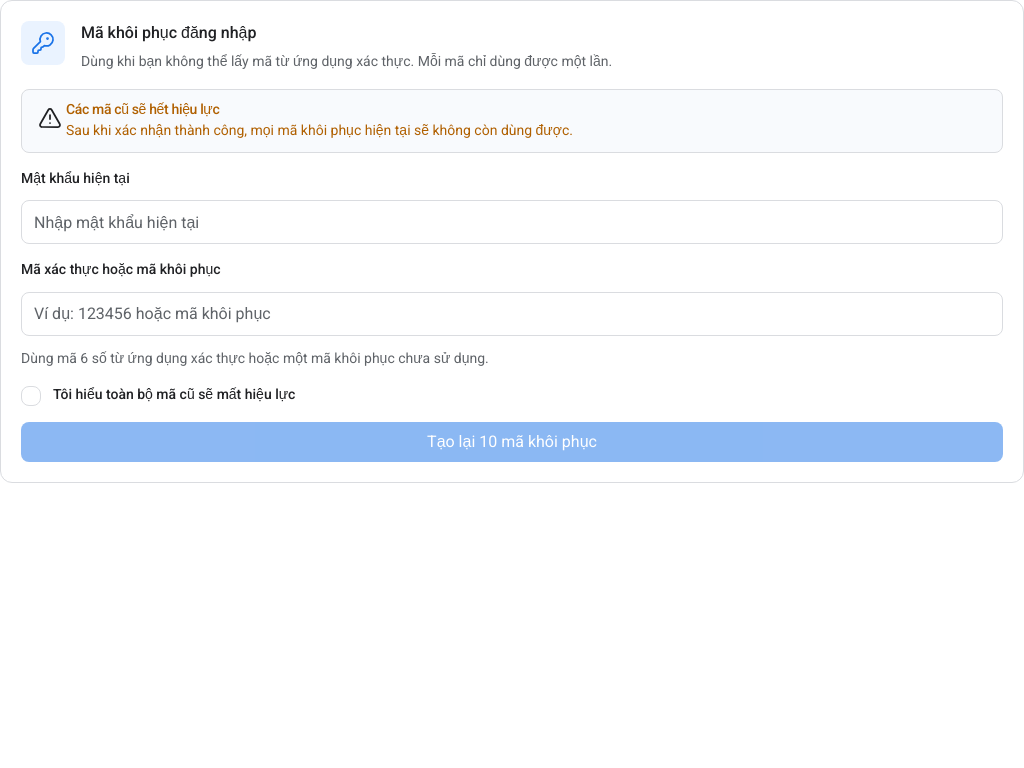
self-service recovery-code regeneration › requires explicit confirmation, submits once, and clears credentials before showing exactly ten one-time codes
Type "Current-password-2026!" into the password field labelled "Mật khẩu hiện tại" at coordinates (512, 222), box [21,200,1003,244]
Type "123456" into the field labelled "Mã xác thực hoặc mã khôi phục" at coordinates (512, 314), box [21,292,1003,336]
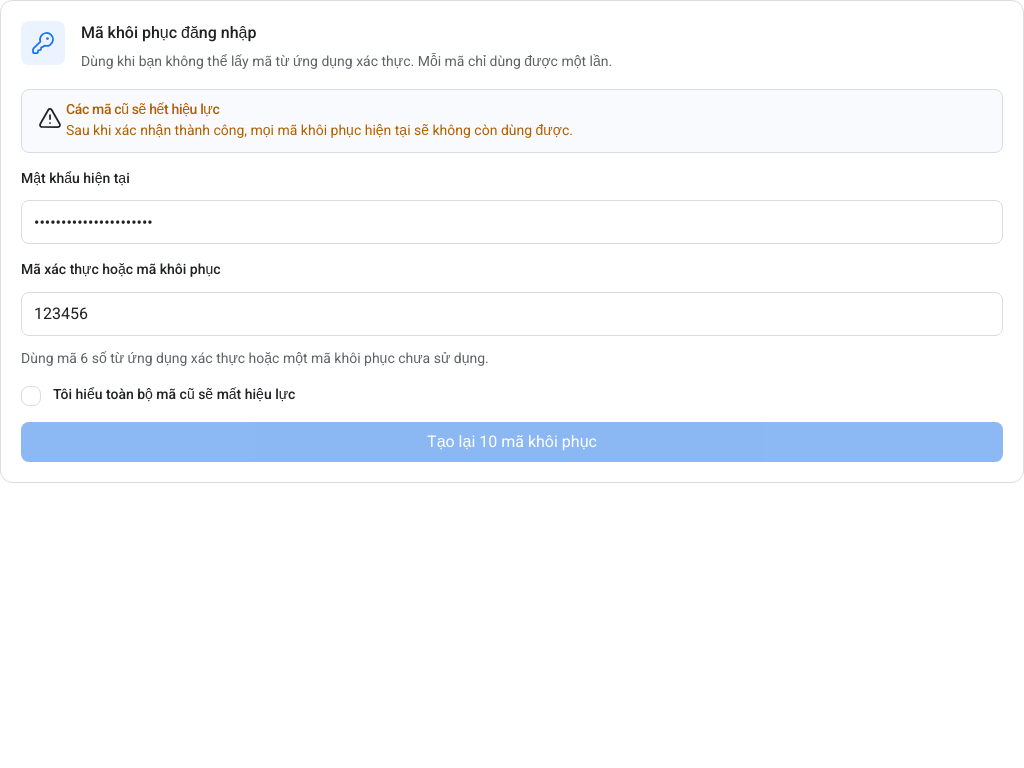
Click the checkbox named "toàn bộ mã cũ sẽ mất hiệu lực" at coordinates (31, 396), box [21,386,41,406]
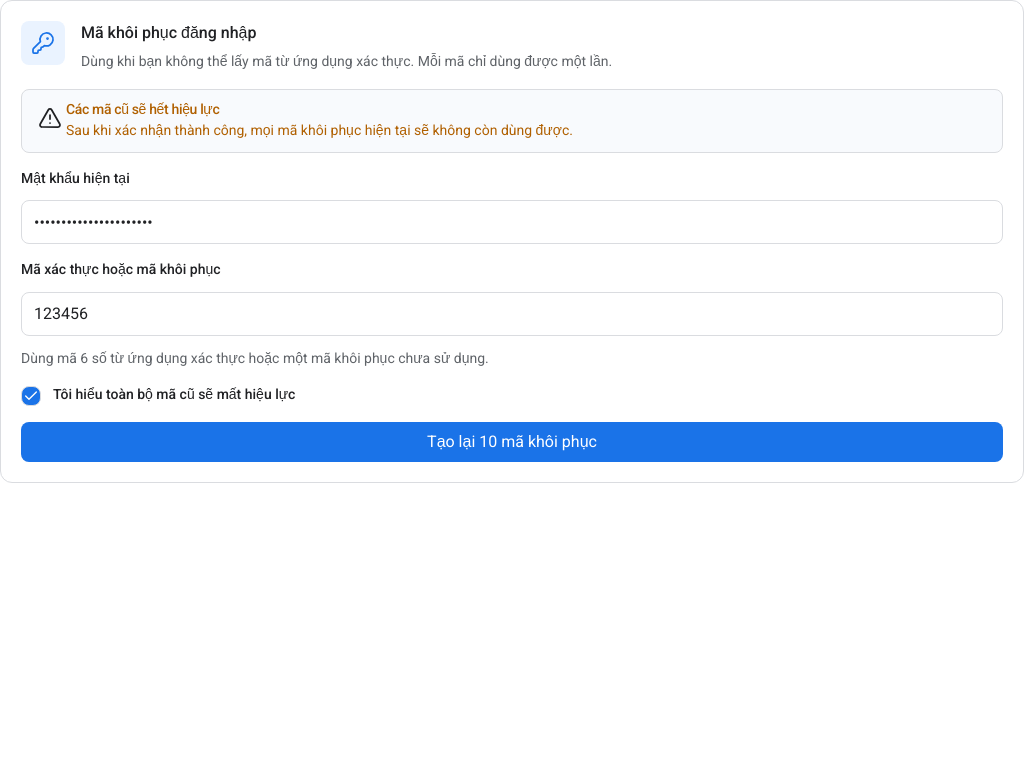
Click the button "Tạo lại 10 mã khôi phục" at coordinates (512, 442), box [21,422,1003,462]
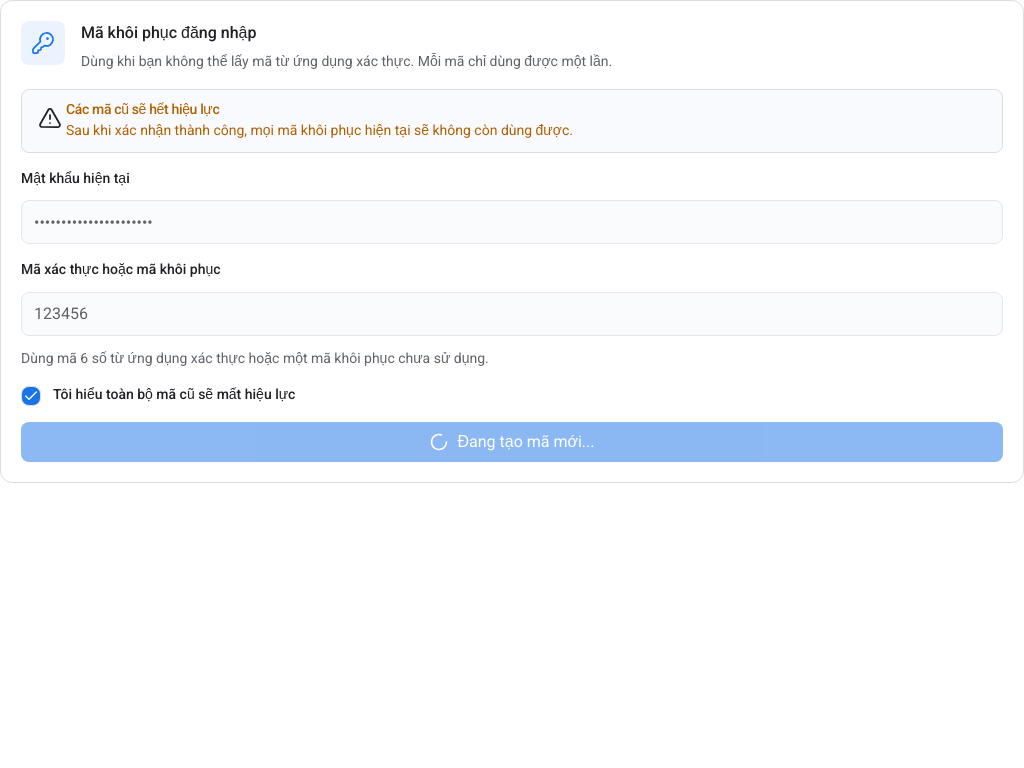
Click the button named "Tạo lại 10 mã khôi phục" at coordinates (512, 442), box [21,422,1003,462]
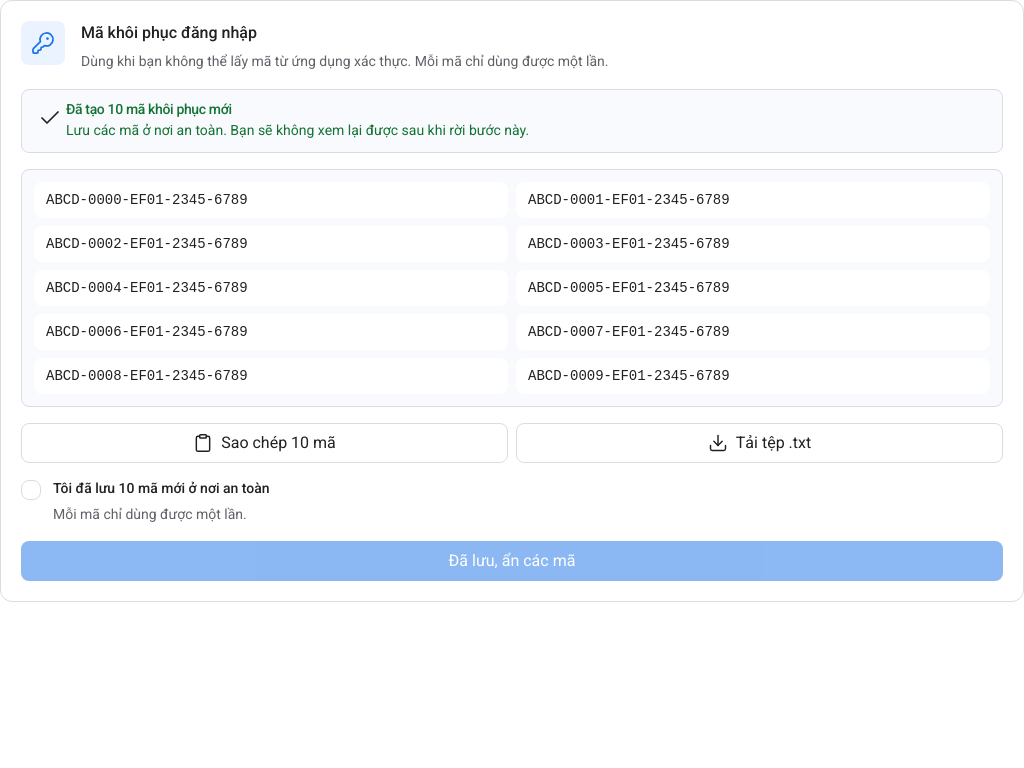
Expected: the number of list items is 10
Expected: the label labelled "Mật khẩu hiện tại" is gone
Expected: the button "Đã lưu, ẩn các mã" is disabled, [21,541,1003,581]
Click the checkbox named "đã lưu 10 mã mới" at coordinates (31, 490), box [21,480,41,500]
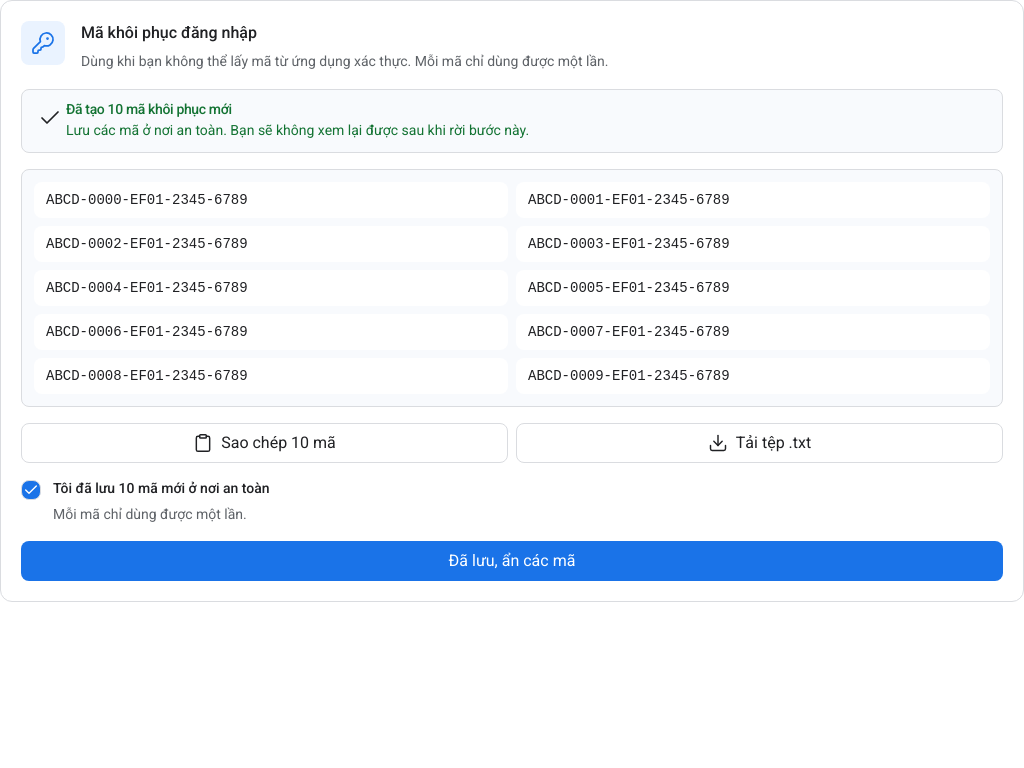
Click the button "Đã lưu, ẩn các mã" at coordinates (512, 561), box [21,541,1003,581]
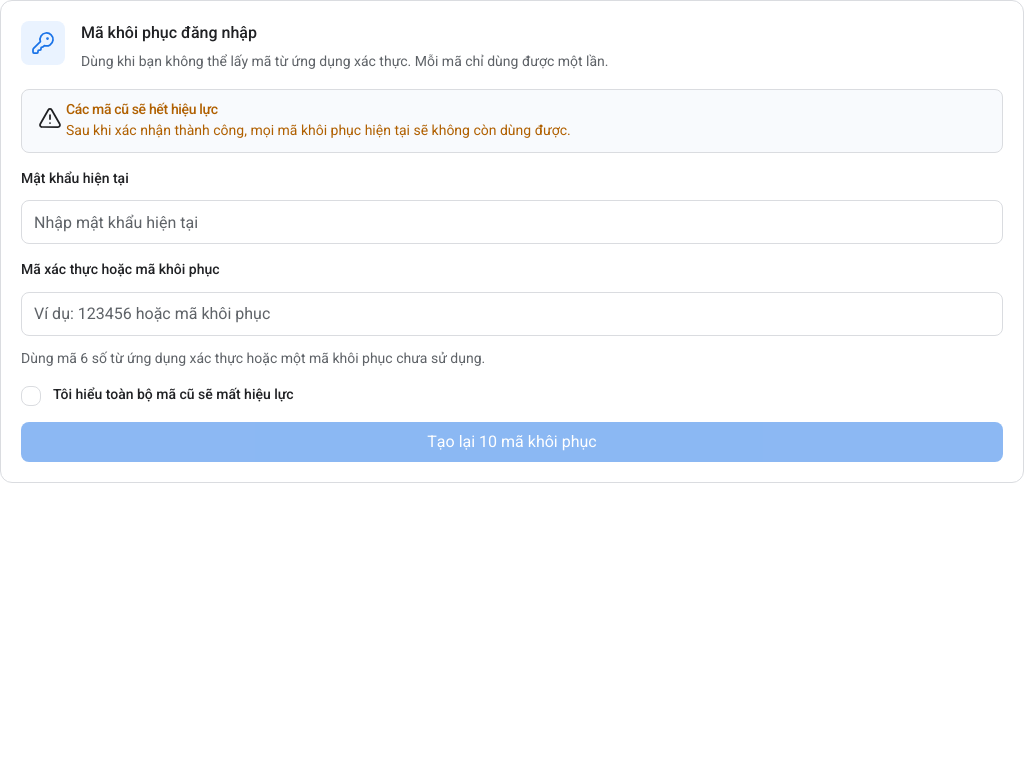
Expected: the heading "10 mã khôi phục mới" is gone
Expected: the password field labelled "Mật khẩu hiện tại" is empty, [21,200,1003,244]
